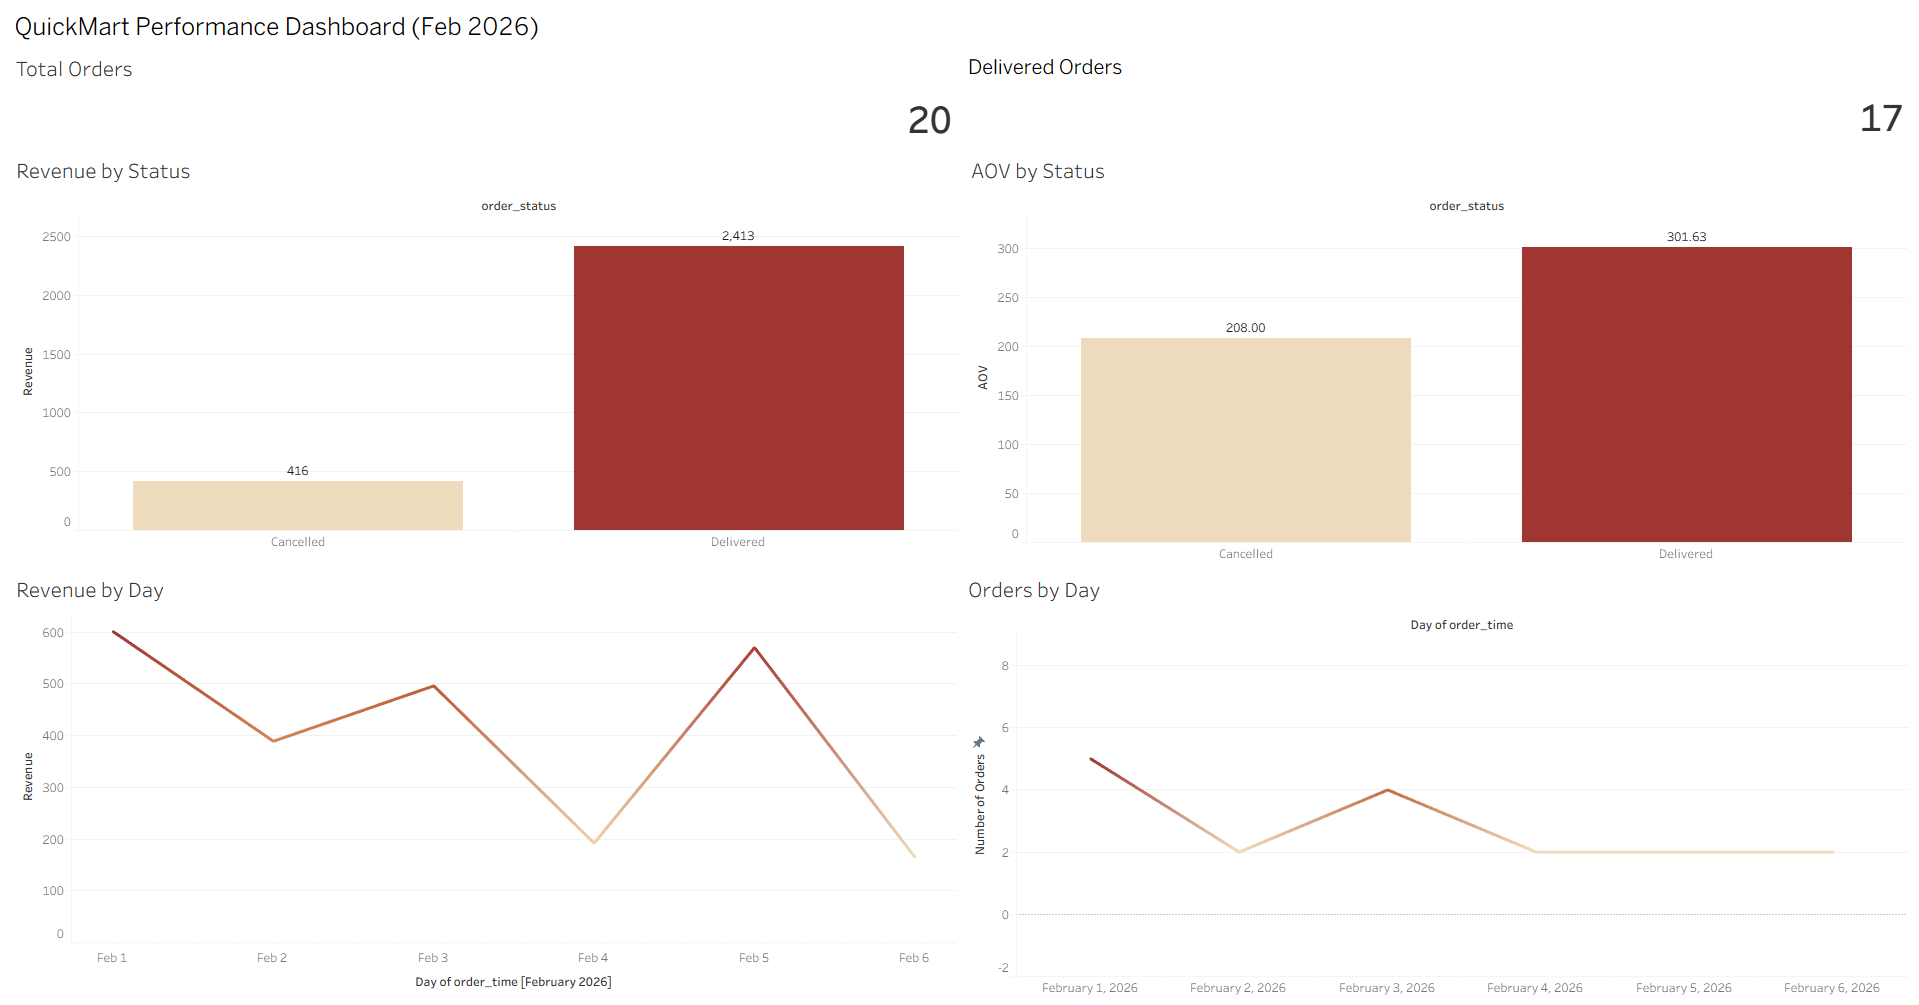

What the dashboard file says about the page in this screenshot:
{"tool":"tableau","page":{"name":"Dashboard 1","canvas":[1000,1000],"units":"permille","ordinal":0},"visuals":[{"type":"title","box":[4.7,9.3,990.7,45.6]},{"type":"worksheet","title":"Total Orders","mark":"Automatic","box":[4.7,54.9,495.3,119.2]},{"type":"worksheet","title":"Delivered Orders","mark":"Automatic","box":[500,54.9,495.3,119.2]},{"type":"worksheet","title":"Revenue by Status","mark":"Bar","rows":["Calculation_2353267244163073"],"cols":["F5"],"box":[4.7,174.1,497.4,387.9]},{"type":"worksheet","title":"AOV by Status","mark":"Automatic","rows":["Calculation_2353267352027138"],"cols":["F5"],"box":[502,174.1,493.3,387.9]},{"type":"worksheet","title":"Revenue by Day","mark":"Automatic","rows":["Calculation_2353267244163073"],"cols":["F4"],"box":[4.7,561.9,495.3,428.7]},{"type":"worksheet","title":"Orders by Day","mark":"Automatic","rows":["F1"],"cols":["F4"],"box":[500,561.9,495.3,428.7]}]}

Visuals, with their boxes on the dashboard's canvas, which has no fixed pixel size, in thousandths of its width and height (x1, y1, x2, y2). These are canvas units, not pixel positions in the 1919x1005 screenshot, which may show the page scaled, cropped or inside an application window:
title: {"x1": 5, "y1": 9, "x2": 995, "y2": 55}
"Total Orders" worksheet: {"x1": 5, "y1": 55, "x2": 500, "y2": 174}
"Delivered Orders" worksheet: {"x1": 500, "y1": 55, "x2": 995, "y2": 174}
"Revenue by Status" worksheet (Bar marks): {"x1": 5, "y1": 174, "x2": 502, "y2": 562}
"AOV by Status" worksheet: {"x1": 502, "y1": 174, "x2": 995, "y2": 562}
"Revenue by Day" worksheet: {"x1": 5, "y1": 562, "x2": 500, "y2": 991}
"Orders by Day" worksheet: {"x1": 500, "y1": 562, "x2": 995, "y2": 991}
